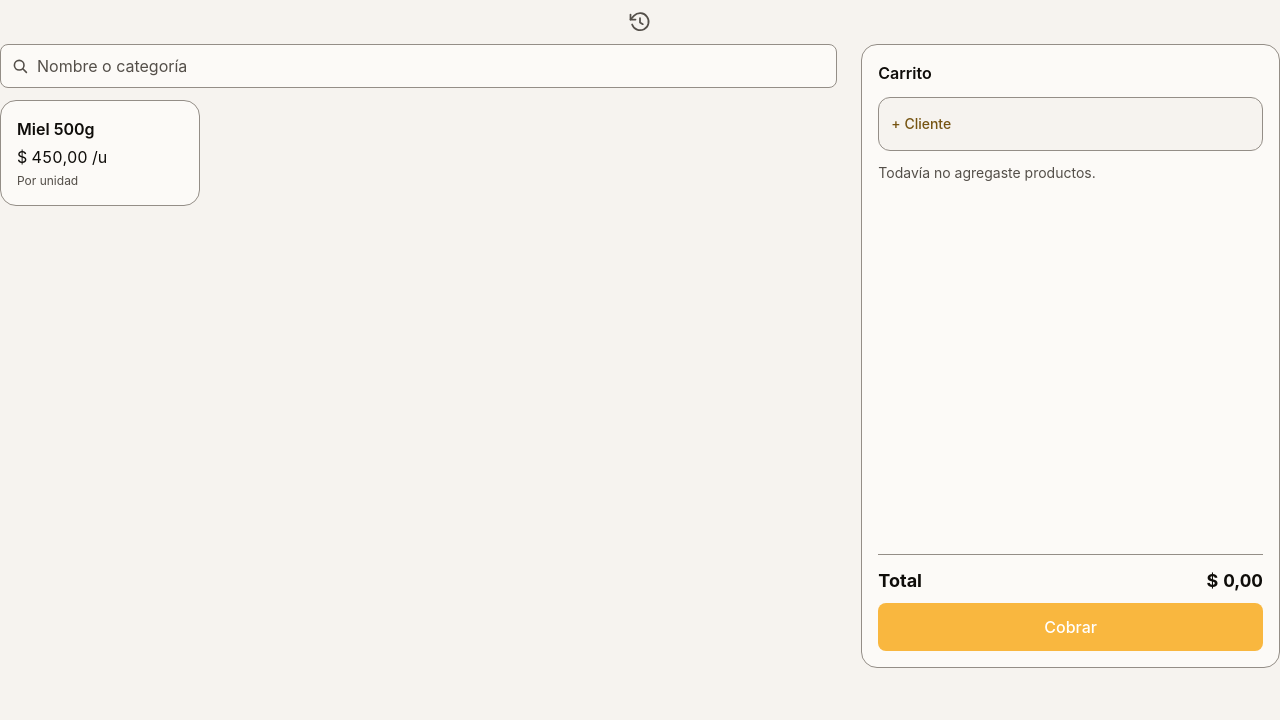
Test: Venta - editar carrito en el lugar (docs/06-ui-ux.md §6, POS-3) › unidad_simple: el stepper del carrito suma, resta, y quitar la última unidad elimina el ítem
Click the text "Miel 500g".
click(56, 129)  # box top-left (17, 117), bottom-right (94, 141)
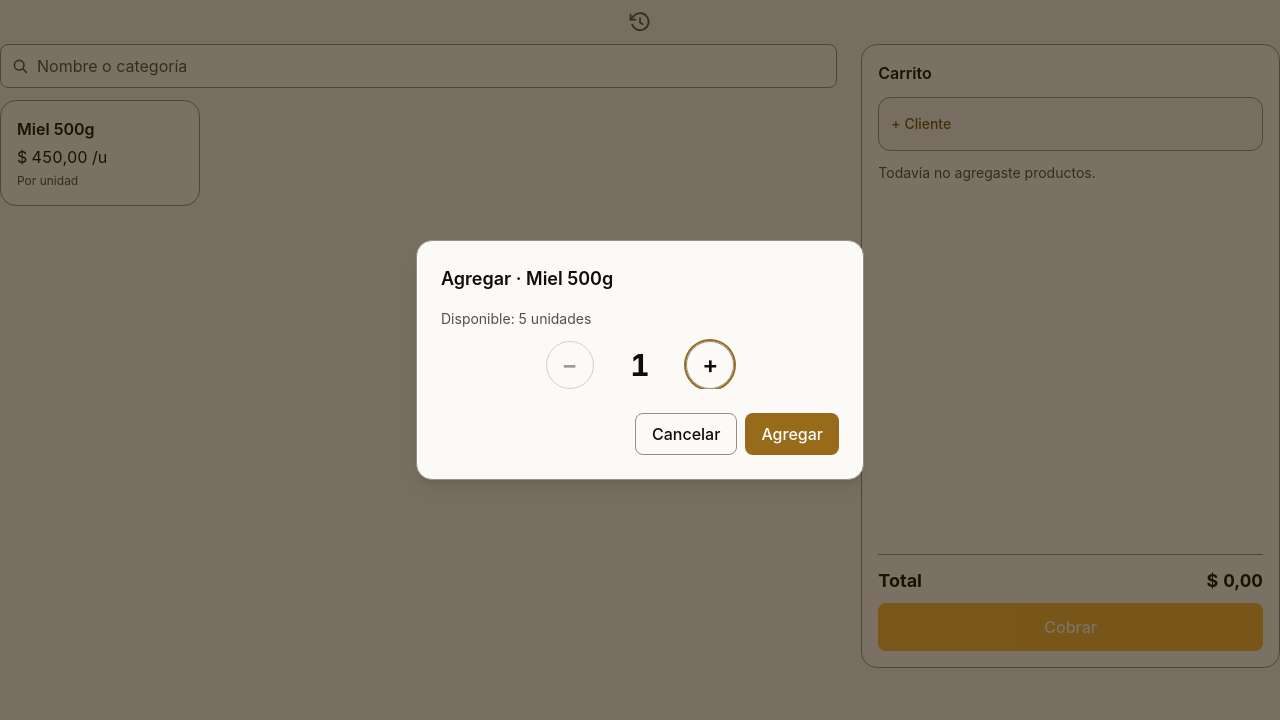
Click the button "Agregar".
click(792, 434)  # box top-left (745, 413), bottom-right (839, 455)
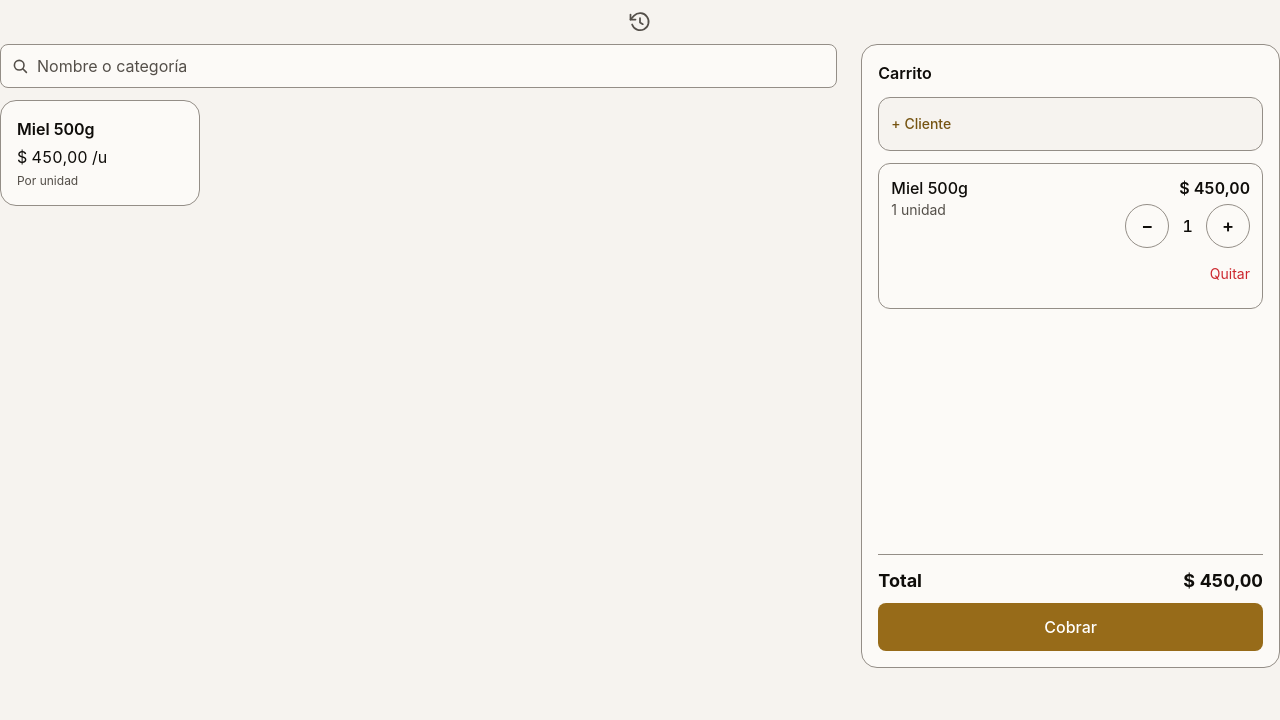
Check: the text "1 unidad" is shown, box top-left (891, 201), bottom-right (946, 218)
Click the button named "Agregar una unidad de Miel 500g".
click(1228, 226)  # box top-left (1206, 204), bottom-right (1250, 248)
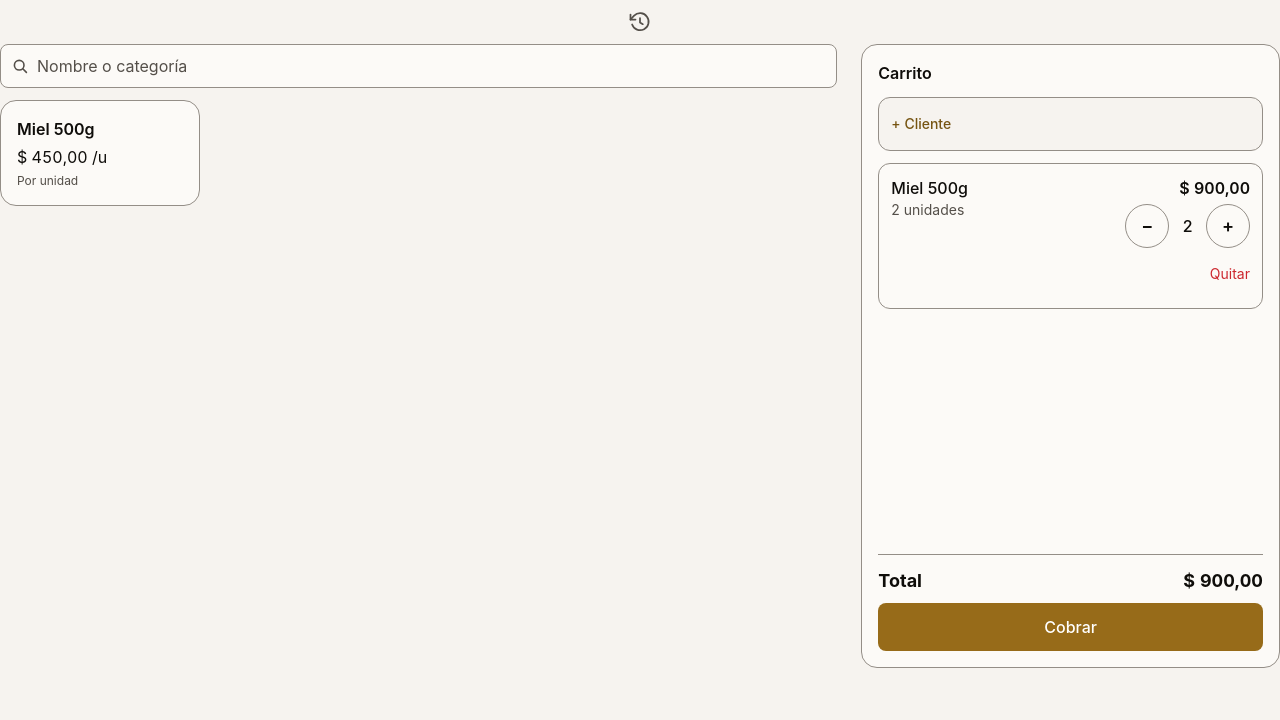
Check: the text "2 unidades" is shown, box top-left (891, 200), bottom-right (968, 220)
Click the button named "Quitar una unidad de Miel 500g".
click(1147, 226)  # box top-left (1125, 204), bottom-right (1169, 248)
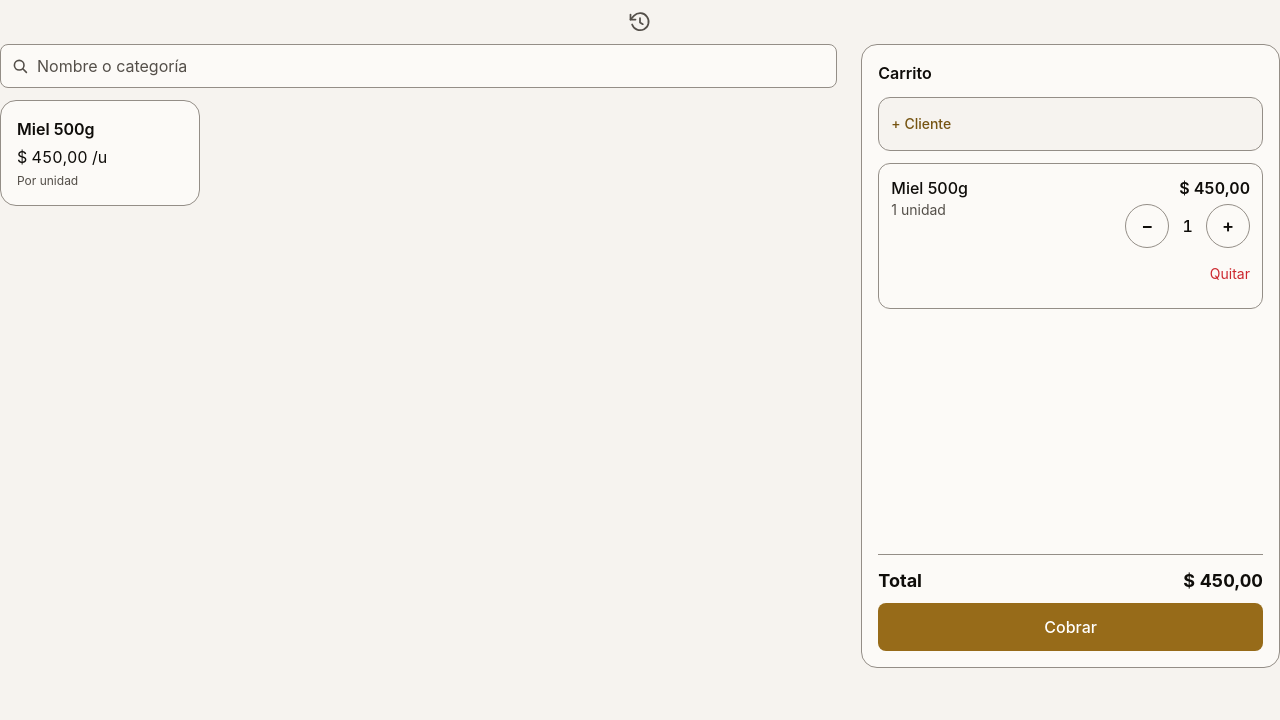
Click the button named "Quitar una unidad de Miel 500g".
click(1147, 226)  # box top-left (1125, 204), bottom-right (1169, 248)
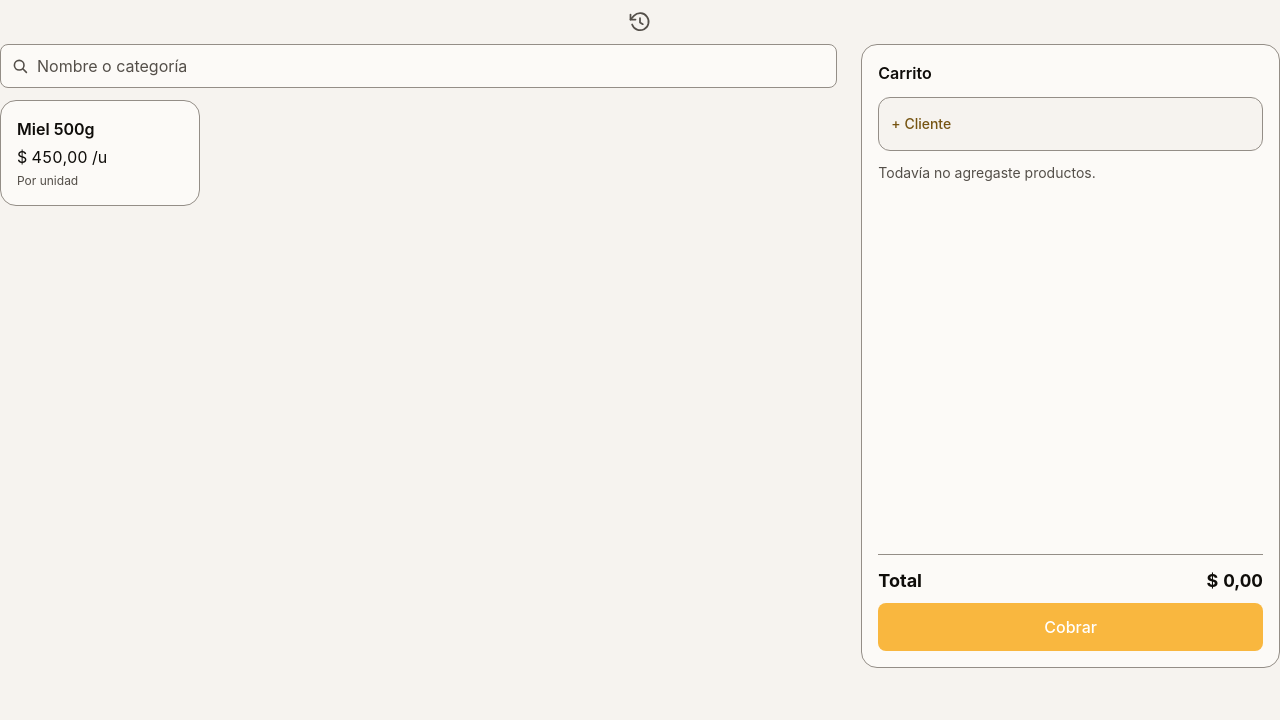
Check: the text "Todavía no agregaste productos." is shown, box top-left (878, 164), bottom-right (1096, 181)
